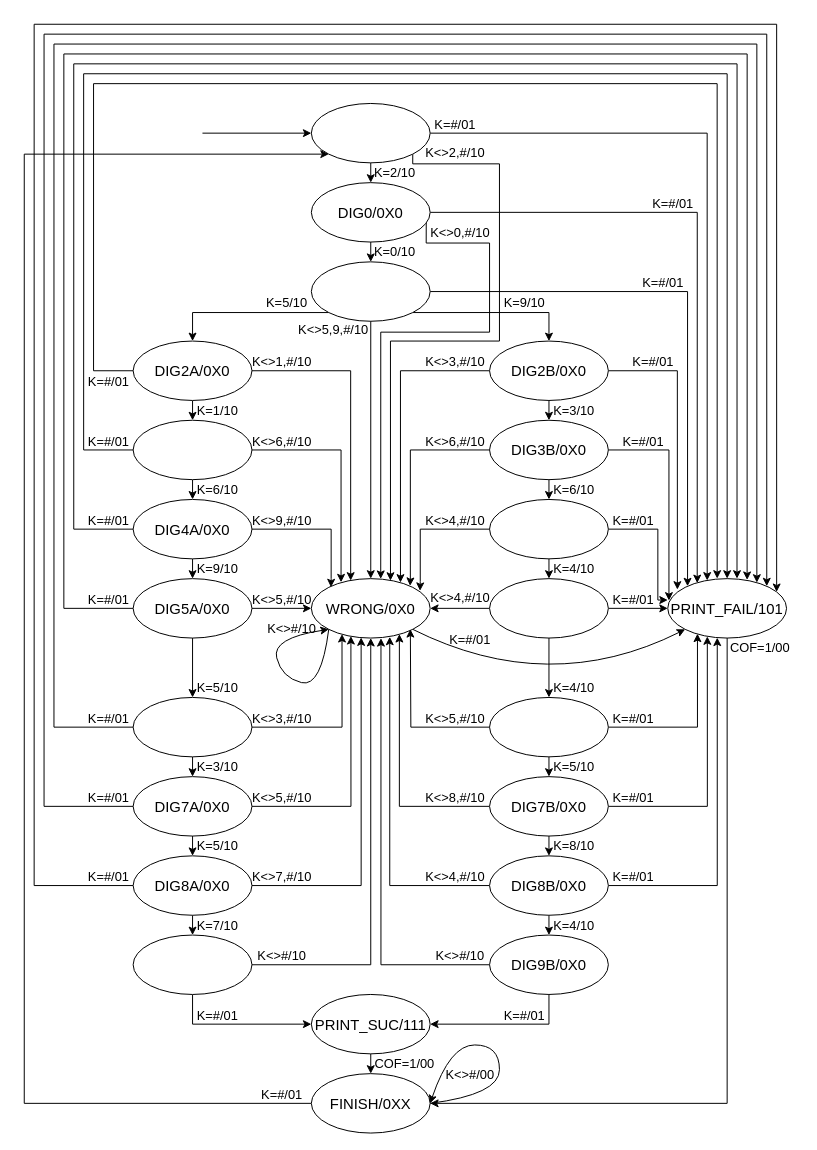
Image size: 817x1150. Some labels were removed from this diagram. Each missing label, with the centre of its shape:
DIG1/0X0: (x=370, y=291)
DIG3A/0X0: (x=192, y=449)
DIG4B/0X0: (x=548, y=528)
DIG5B/0X0: (x=548, y=608)
DIG6A/0X0: (x=192, y=726)
DIG6B/0X0: (x=548, y=726)
DIG9A/0X0: (x=192, y=964)
START/0X0: (x=370, y=132)
